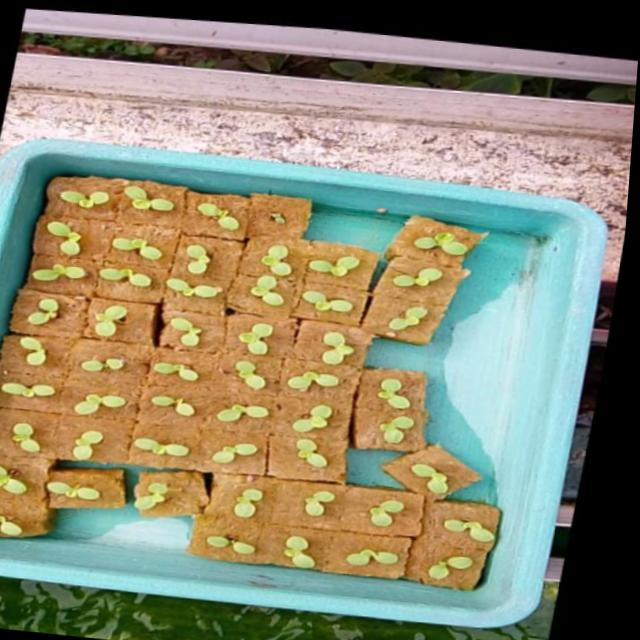Baby: (401, 454, 453, 497), (419, 551, 485, 584), (3, 422, 60, 459), (423, 519, 475, 551), (292, 368, 342, 399), (160, 316, 208, 348), (294, 405, 350, 432), (297, 289, 352, 315), (75, 349, 137, 372), (19, 291, 60, 325), (123, 186, 173, 212), (28, 261, 89, 282), (413, 235, 466, 259), (348, 547, 410, 567), (196, 204, 239, 232), (381, 417, 416, 451), (93, 304, 128, 337), (164, 278, 221, 298), (150, 395, 198, 418), (76, 394, 128, 415), (47, 222, 80, 255), (321, 333, 353, 366), (237, 325, 271, 356), (98, 268, 151, 287), (285, 535, 316, 567), (250, 277, 283, 307), (218, 404, 269, 423), (236, 361, 268, 391), (387, 309, 426, 333), (391, 271, 440, 290), (260, 248, 290, 279), (298, 439, 329, 469), (368, 499, 402, 526), (311, 256, 359, 275), (155, 362, 200, 382), (234, 489, 265, 518), (61, 191, 110, 209), (74, 431, 104, 459), (3, 383, 56, 398), (378, 379, 411, 402), (22, 337, 49, 365), (185, 244, 209, 274), (306, 492, 336, 516), (112, 238, 152, 255), (216, 444, 250, 463)
